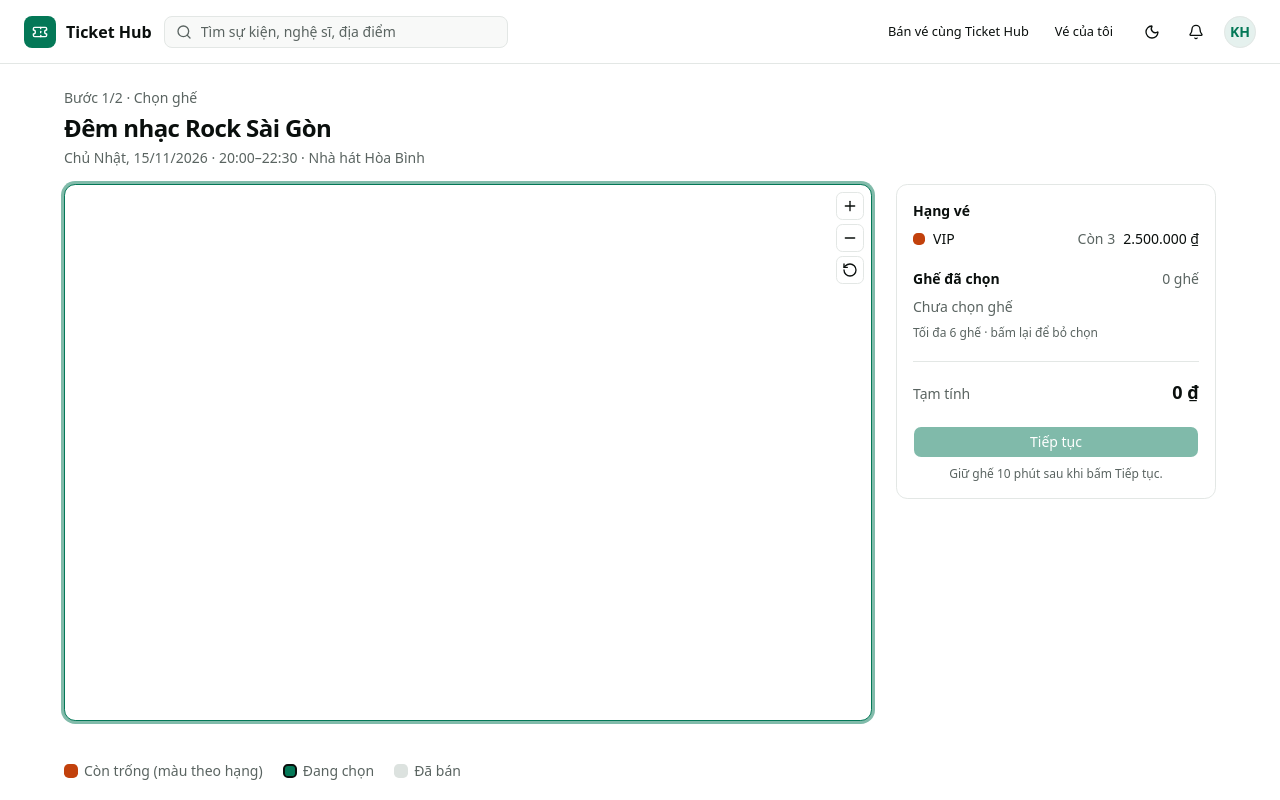
giữ ghế (AC-6, AC-7) › 422 TICKET_LIMIT_EXCEEDED hiện số vé tối đa của sự kiện và giữ nguyên lựa chọn
Press Home Enter
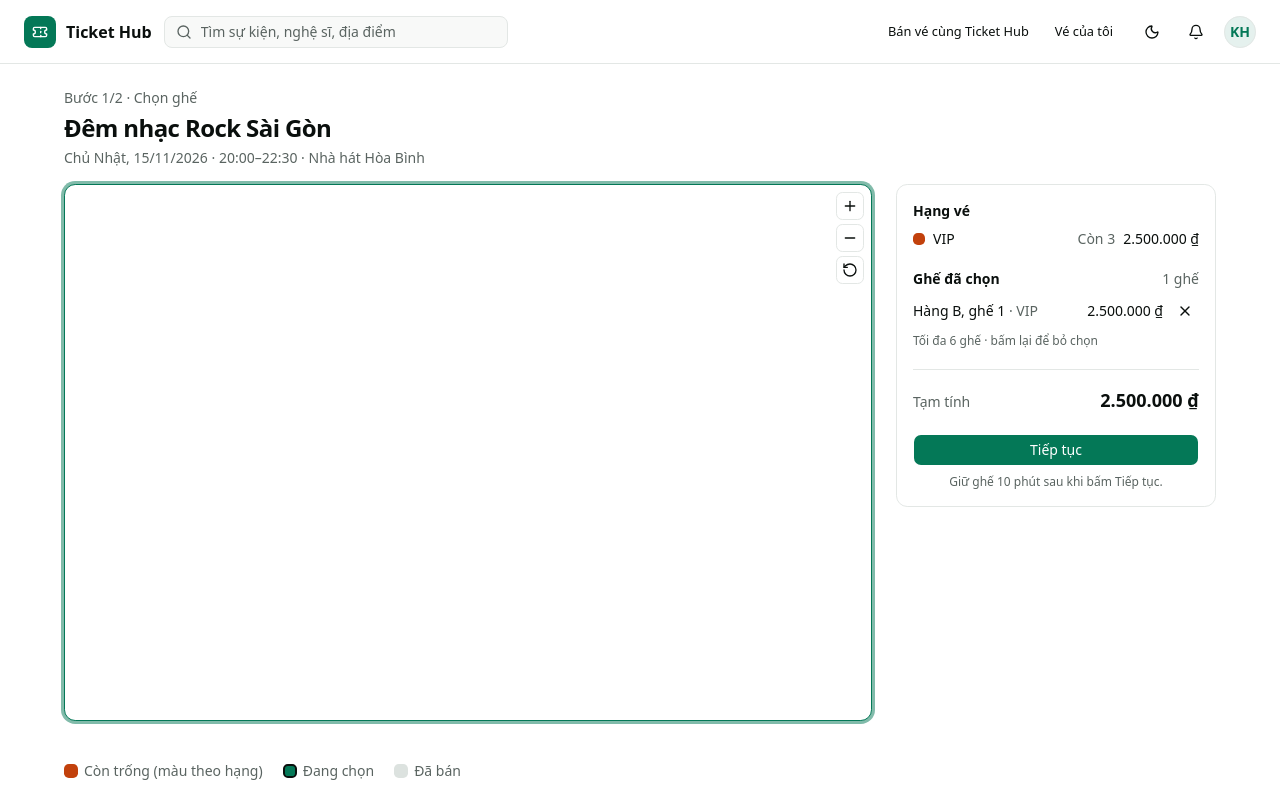
Click the button "Tiếp tục". click: x=1056, y=450
box: [913,434,1199,466]
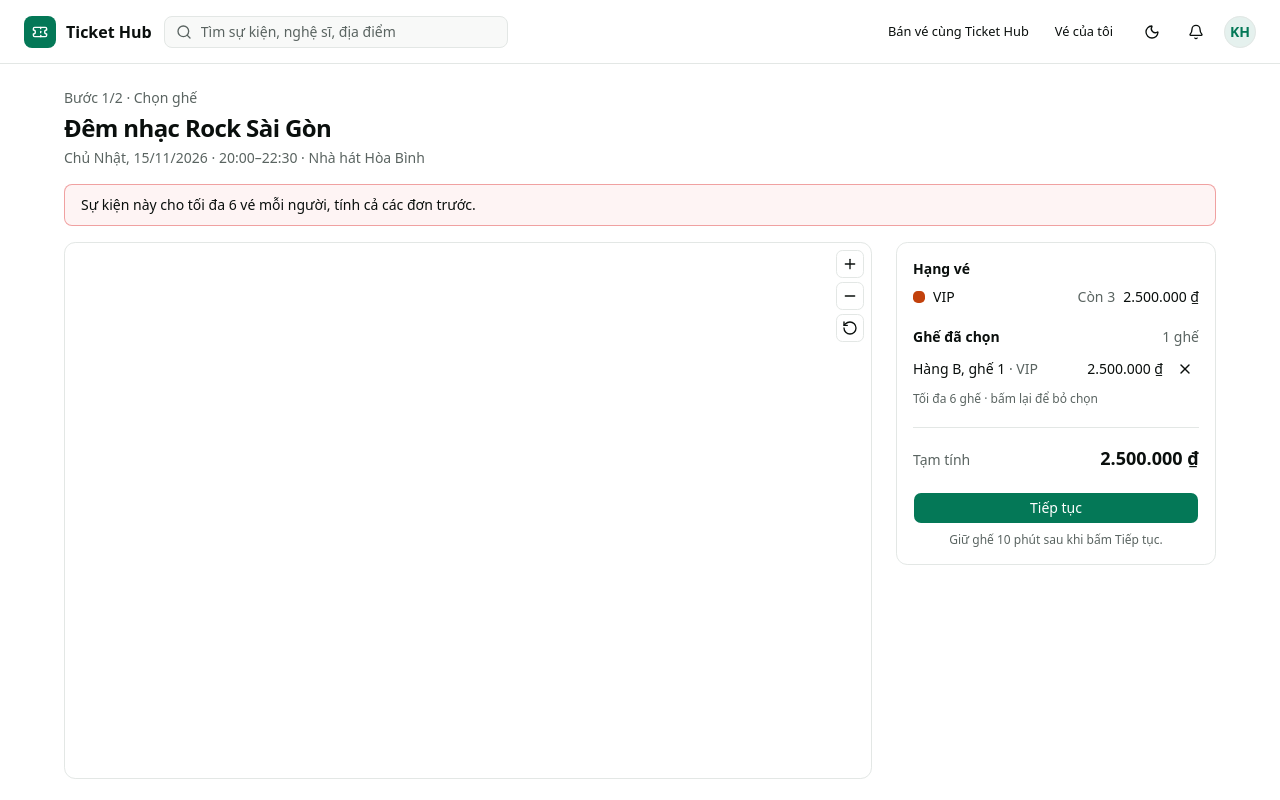
Expected: the button named "Bỏ chọn Hàng B, ghế 1" is shown, [1171,355,1199,383]
Expected: the text "Sự kiện này cho tối đa 6 vé mỗi người, tính cả các đơn trước." is shown, [64,184,1216,226]
